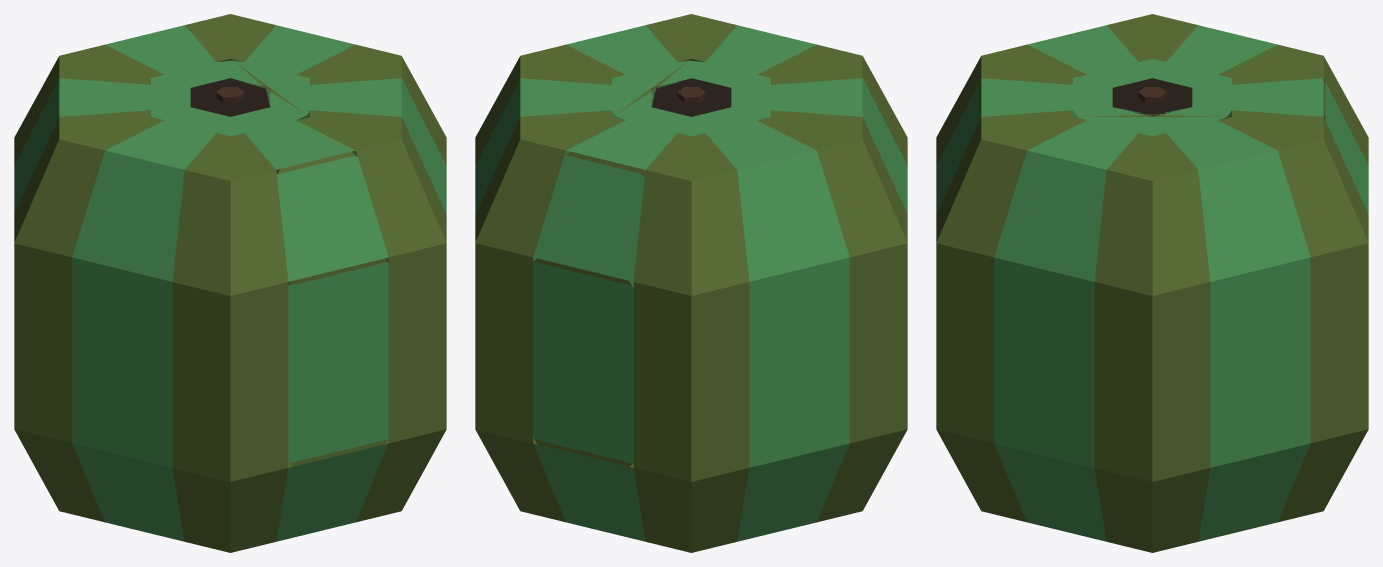
Rendered from crop_melon.glb.
3 renders of one model, left to right at view 1: azimuth 30°, elevation 25°; view 2: azimuth 150°, elevation 25°; view 3: azimuth 270°, elevation 25°, orthographic.
Parts seen in each view (by area): view 1: crop_melon; view 2: crop_melon; view 3: crop_melon.
Part boxes in pixels (box(x1,y1,x2,y2)): crop_melon: box(14, 14, 446, 552); crop_melon: box(475, 14, 907, 552); crop_melon: box(936, 14, 1368, 552).
Bounding box in the file's own units: 0.4176 × 0.348 × 0.3617.
